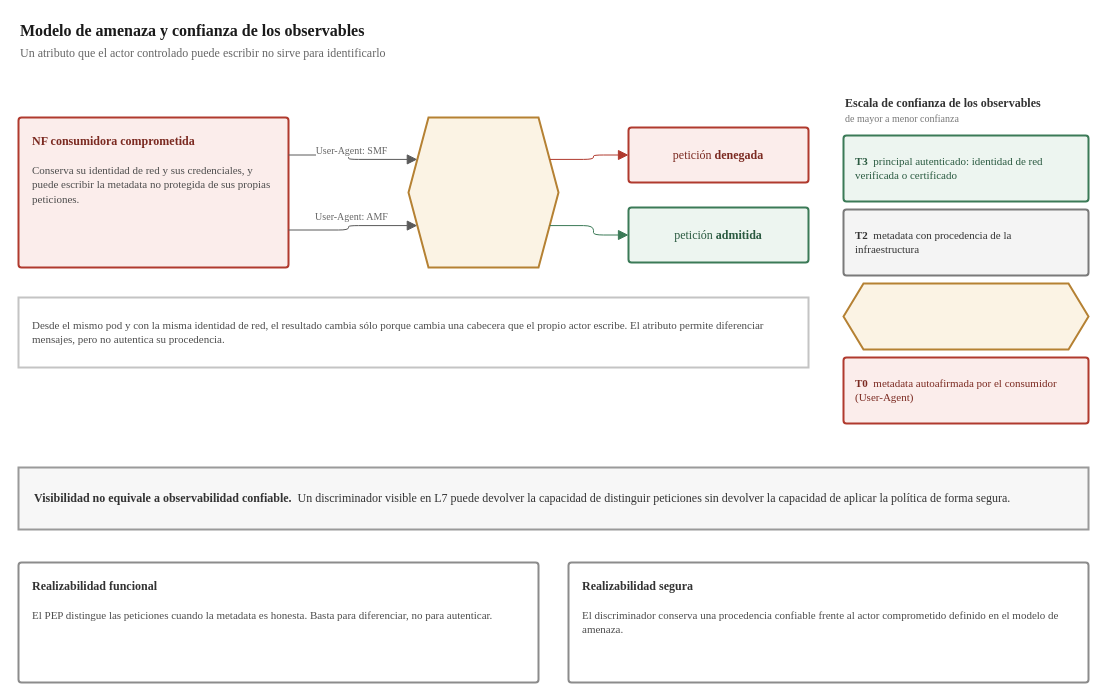
Some shapes in this 1110 by 700 pixel diagram are drawn without their labels. Here are the shapes that lost their labels. From the top down, the centre of each, then its label:
At point 483,192: "PEP L7 decide según la cabecera observada".
At point 965,316: "T1 metadata efectiva para el enrutamiento, controlable por el consumidor".
